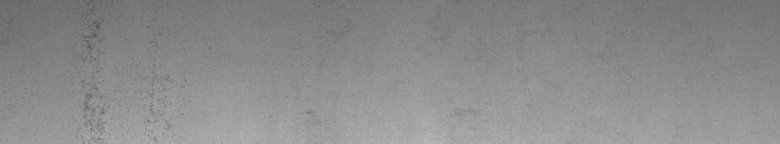ib: (76, 16, 173, 136)
